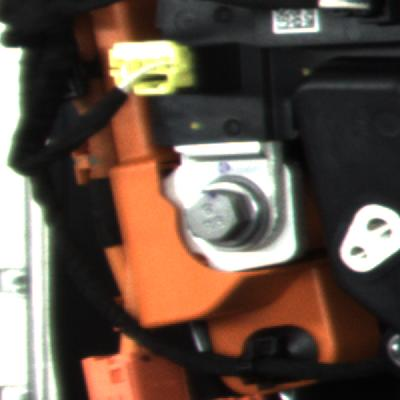nut_b: (184, 165, 278, 261)
